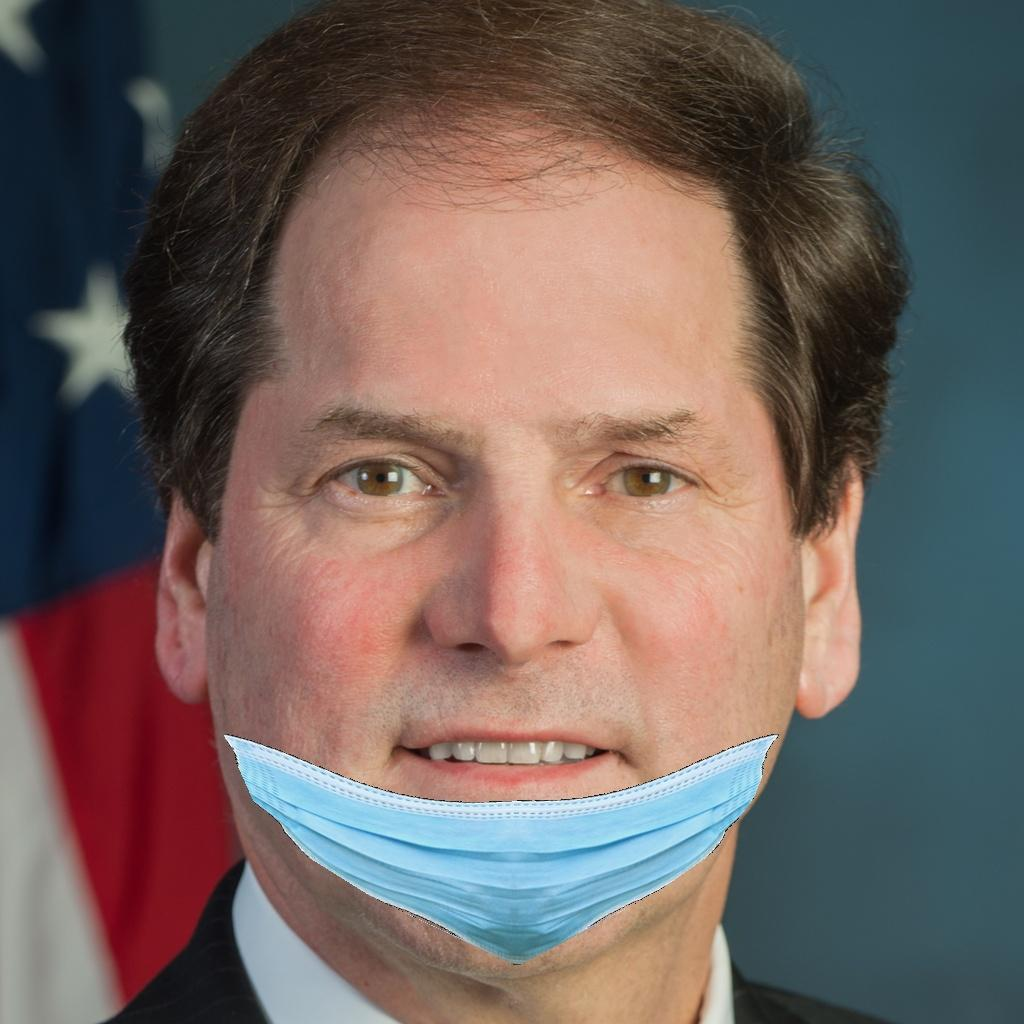Máscara Incorreta: (220, 233, 801, 951)
